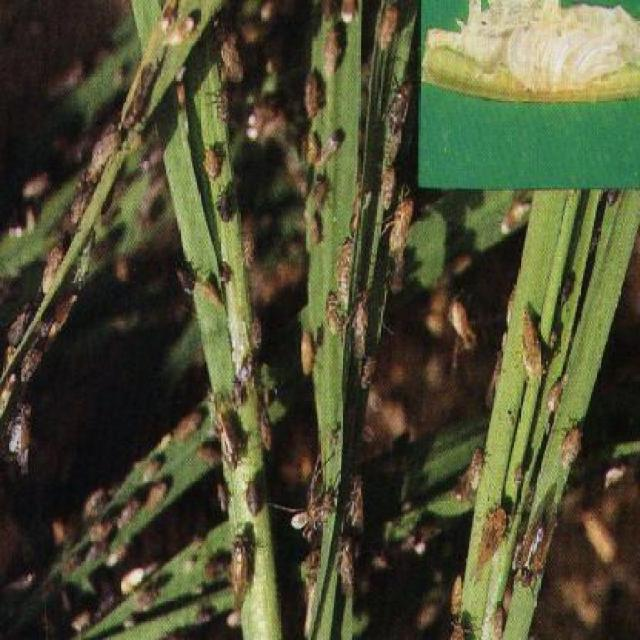brown-planthopper: (518, 513, 558, 592), (4, 401, 36, 477), (213, 11, 244, 84), (475, 510, 514, 568), (227, 534, 251, 614), (388, 193, 414, 256), (520, 309, 542, 380), (213, 408, 238, 470), (51, 289, 80, 333), (6, 303, 31, 349), (353, 296, 372, 355), (334, 547, 354, 599), (118, 564, 148, 598), (177, 408, 206, 443), (379, 6, 403, 48), (43, 247, 65, 291), (16, 352, 47, 380), (147, 478, 171, 514), (546, 373, 568, 412), (303, 70, 320, 116), (392, 82, 408, 130), (324, 290, 342, 332), (350, 481, 364, 533), (325, 29, 341, 74), (562, 426, 578, 469), (200, 145, 220, 178), (120, 498, 140, 531), (239, 234, 258, 268), (302, 329, 316, 374), (257, 410, 271, 455), (199, 279, 221, 307), (247, 477, 262, 518), (319, 139, 344, 163), (175, 262, 192, 296), (451, 575, 464, 619), (310, 182, 332, 208), (470, 449, 484, 488), (248, 312, 262, 351), (216, 189, 232, 223), (305, 133, 318, 162), (309, 216, 322, 244)
